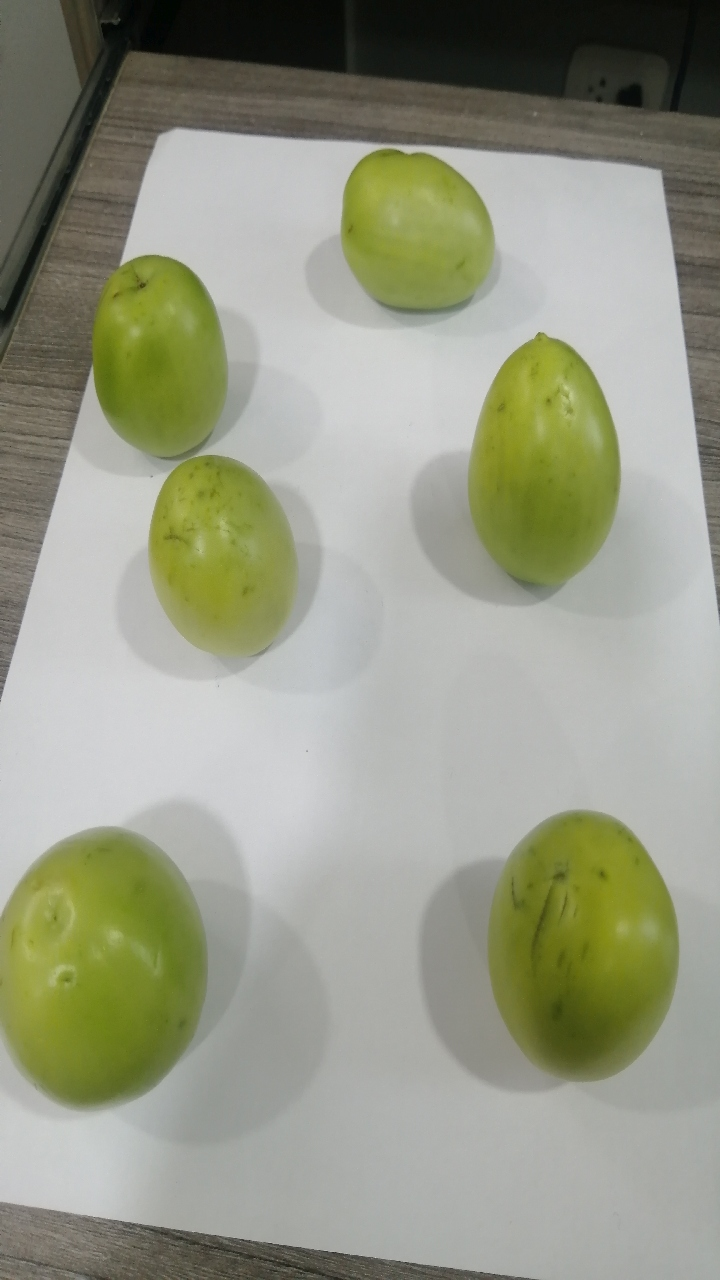tomateVerde: (1, 811, 231, 1123), (468, 782, 686, 1103), (444, 322, 641, 606), (111, 440, 329, 688), (72, 226, 240, 468), (321, 120, 501, 337)
